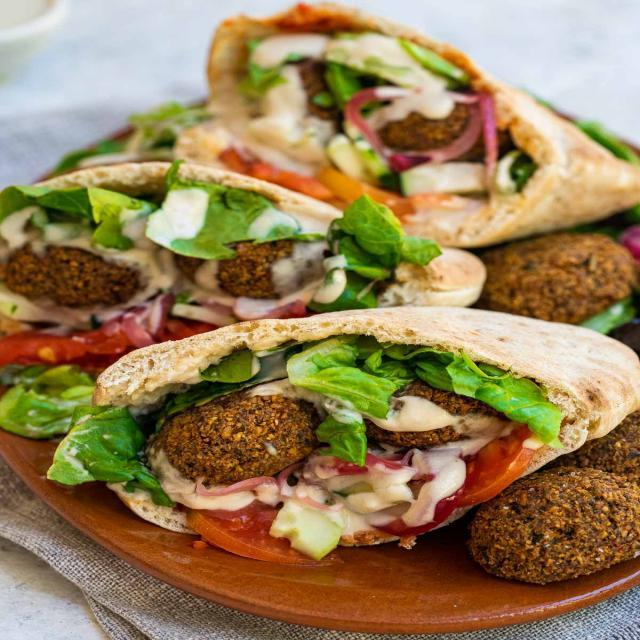flafel: (475, 468, 640, 586), (475, 233, 640, 325), (160, 396, 320, 483), (6, 247, 143, 310)
